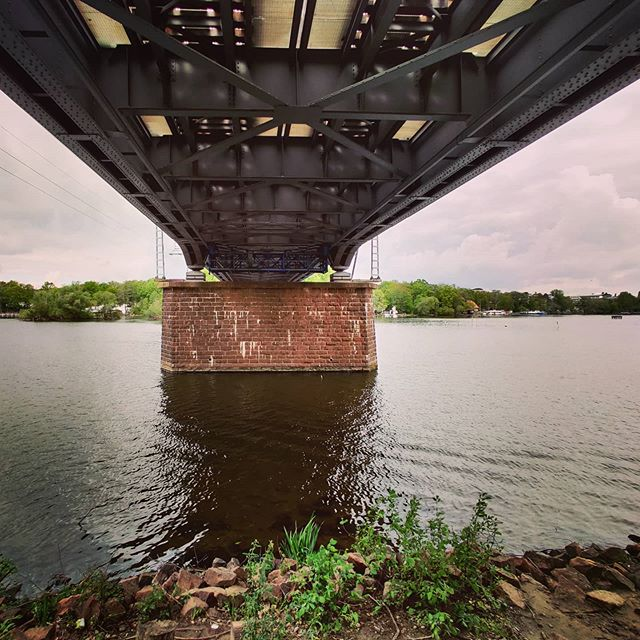bridge: (1, 1, 640, 430)
river: (2, 316, 640, 548)
sky: (407, 112, 640, 277), (1, 124, 159, 280)
